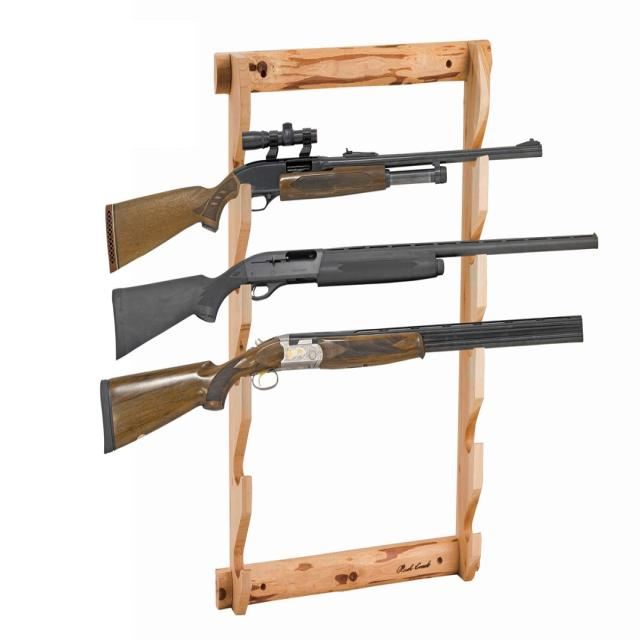ShotGun: (106, 123, 544, 273), (100, 316, 584, 450), (112, 235, 599, 358)
